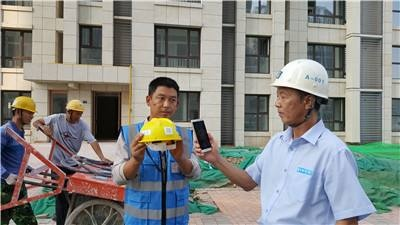none: (145, 76, 180, 122)
white: (271, 56, 330, 130)
yellow: (9, 92, 37, 128), (62, 97, 85, 123)
